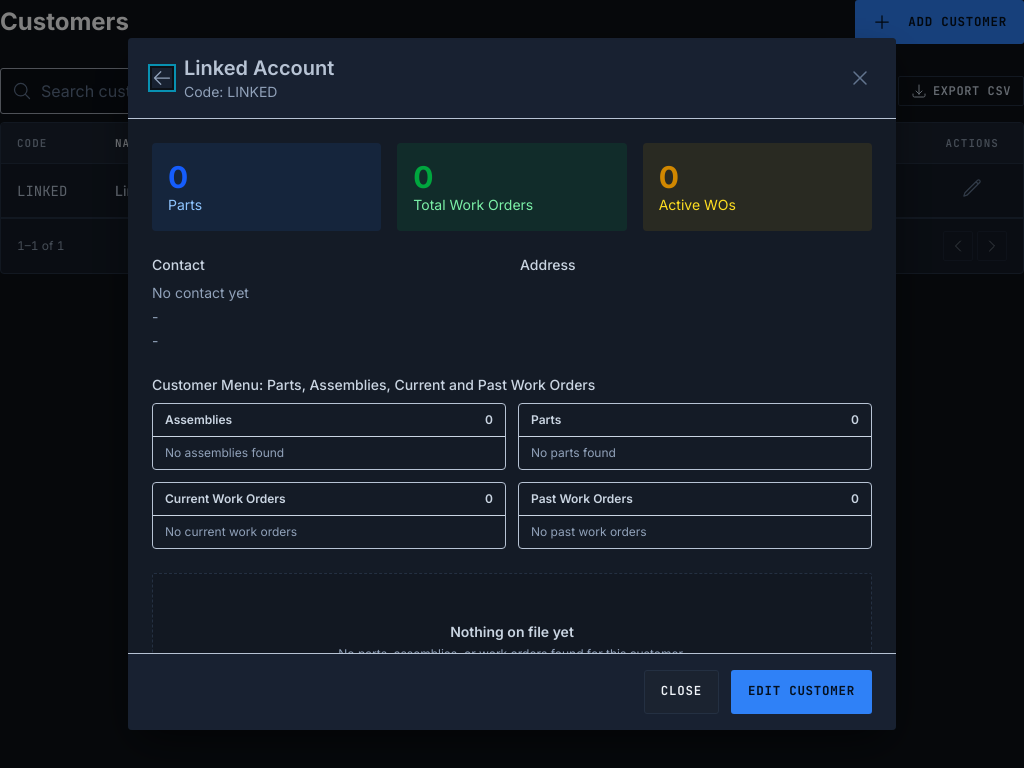
keeps a linked customer detail from reopening over its edit form
Click the button "Edit Customer".
click(802, 692)  # box [731,670,872,714]
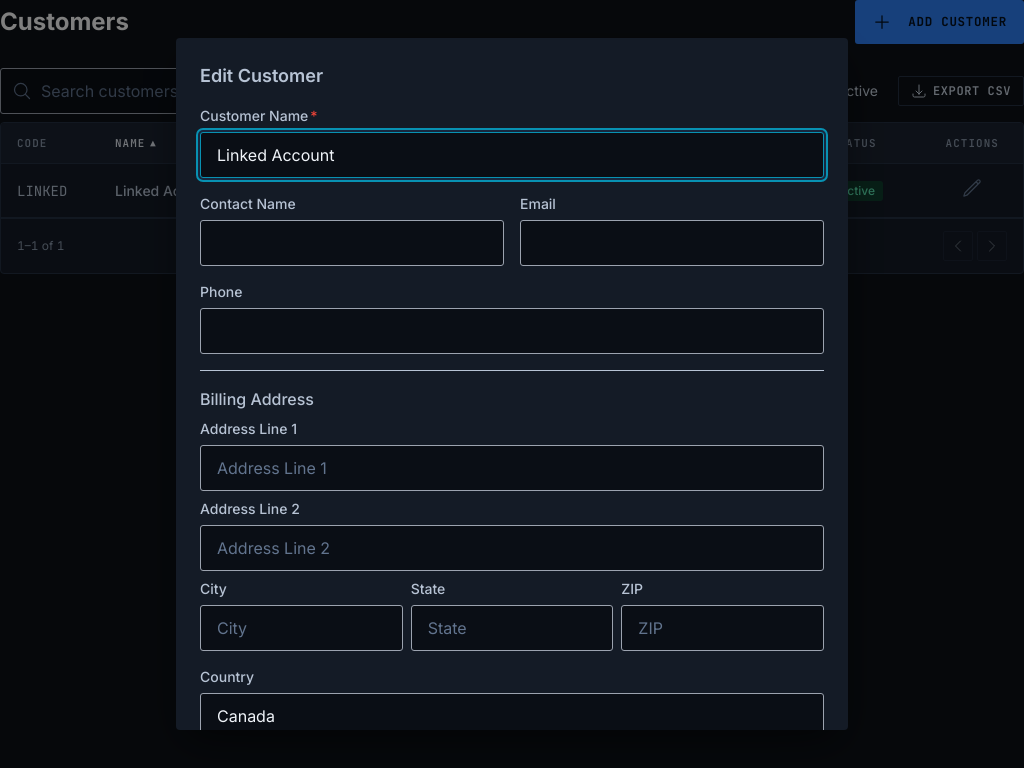
Type "555-0202" into the field labelled "Phone".
click(512, 331); type("555-0202")  # box [200,308,824,354]
(page scrolled)
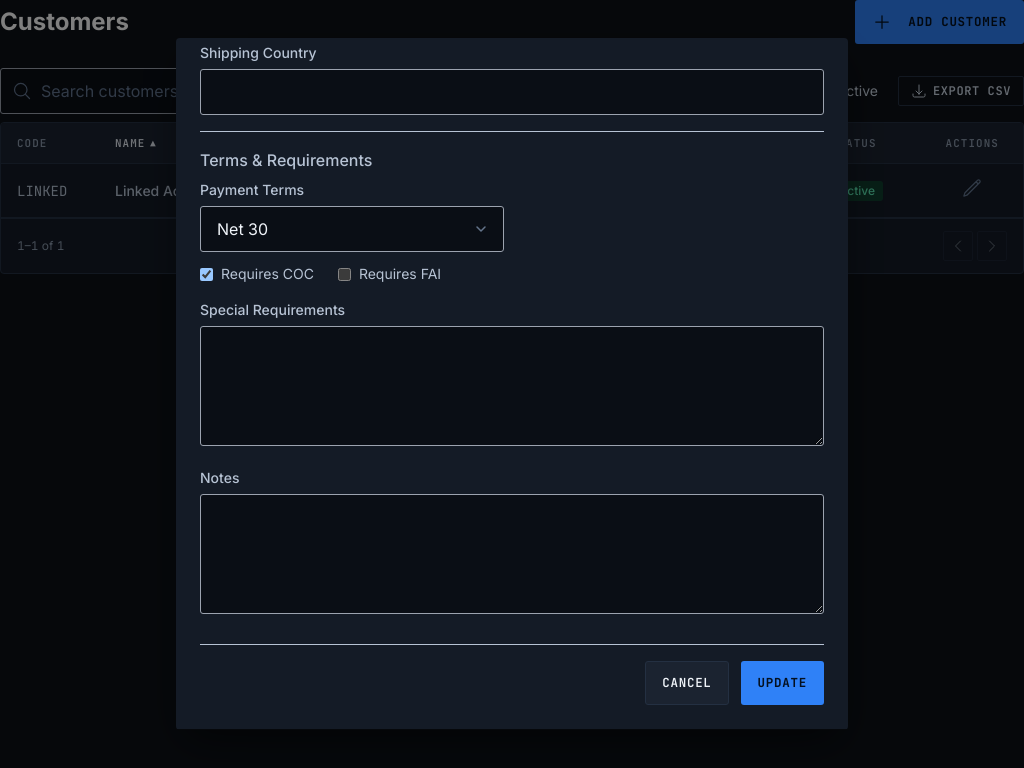
Expected: the number of dialogs is 1, [176,38,848,730]
Result: the button "Update" is enabled at [741,661,824,705]
